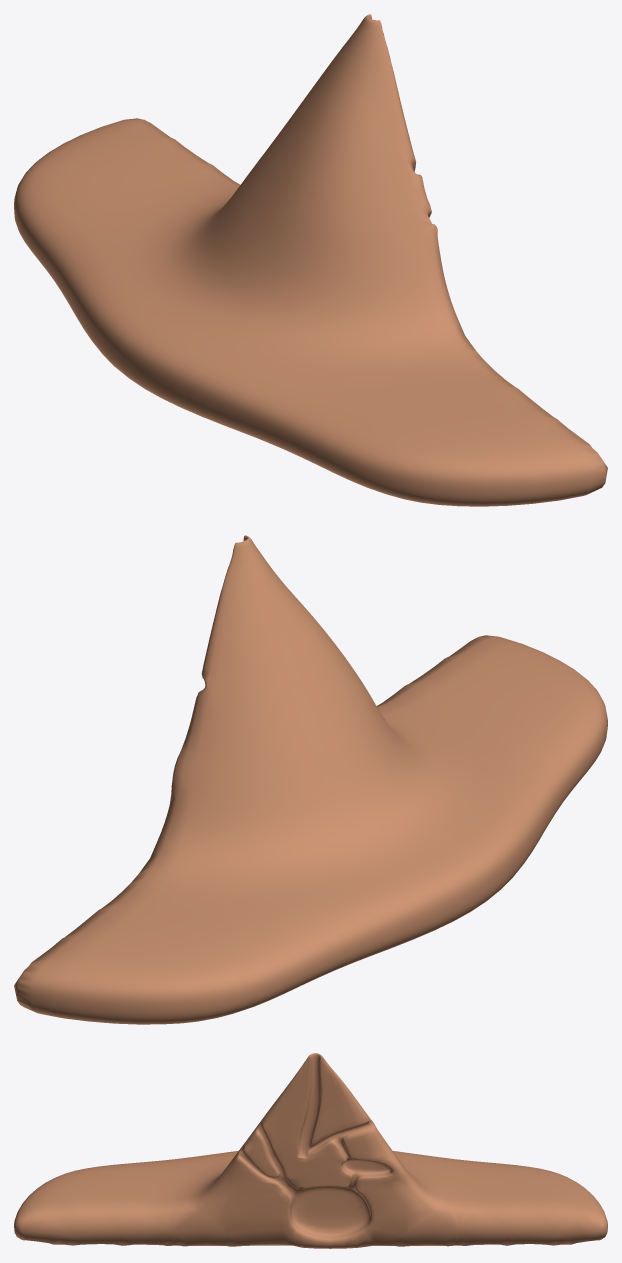
The model's file is Anthill.fbx.
The picture shows the model from 3 angles, top to bottom: view 1: azimuth 30°, elevation 25°; view 2: azimuth 150°, elevation 25°; view 3: azimuth 270°, elevation 25°; orthographic projection. The views are drawn at different scales.
Visible parts, largest first — view 1: Cube; view 2: Cube; view 3: Cube.
Part boxes in pixels (x1,y1,x2,y2): Cube: [14, 14, 607, 506]; Cube: [14, 535, 607, 1024]; Cube: [14, 1053, 607, 1248].
Bounding box in the file's own units: 383 × 453 × 1237.
